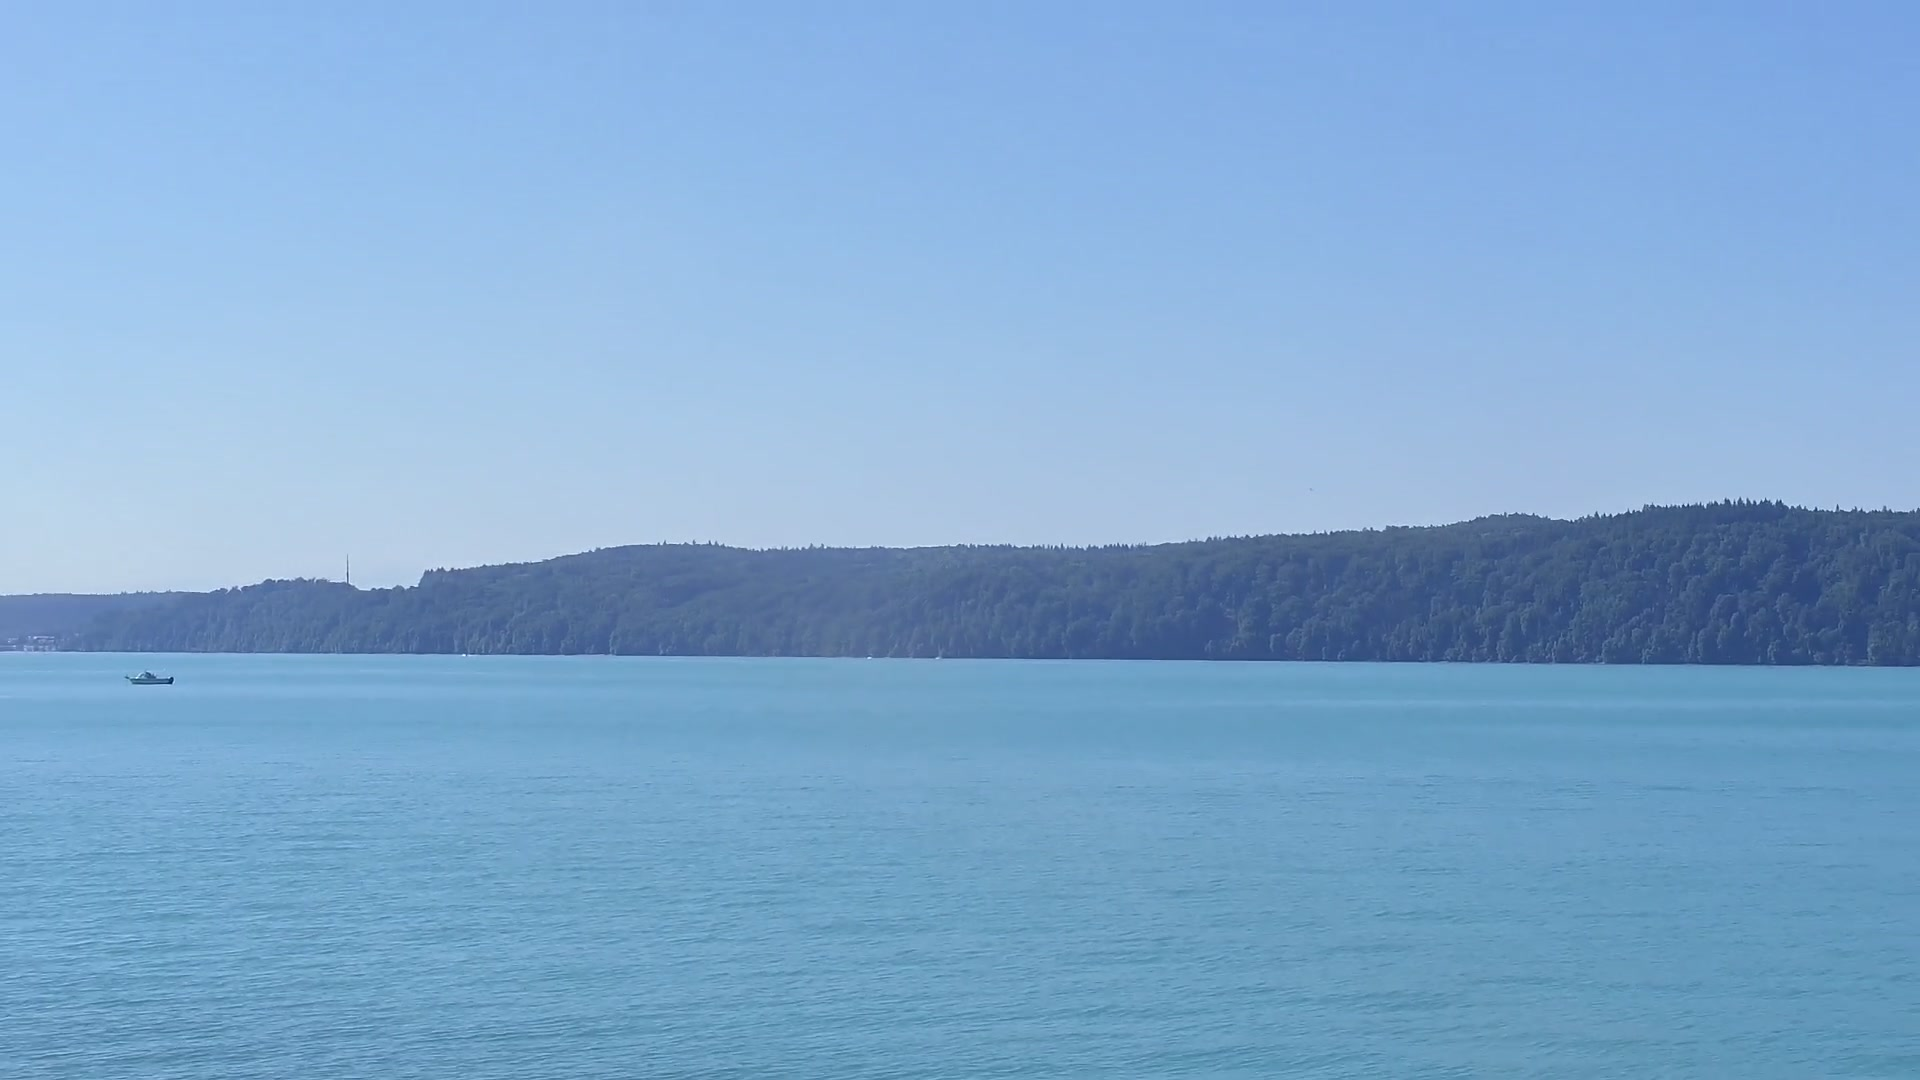sea: (123, 669, 173, 684), (935, 642, 942, 659)
